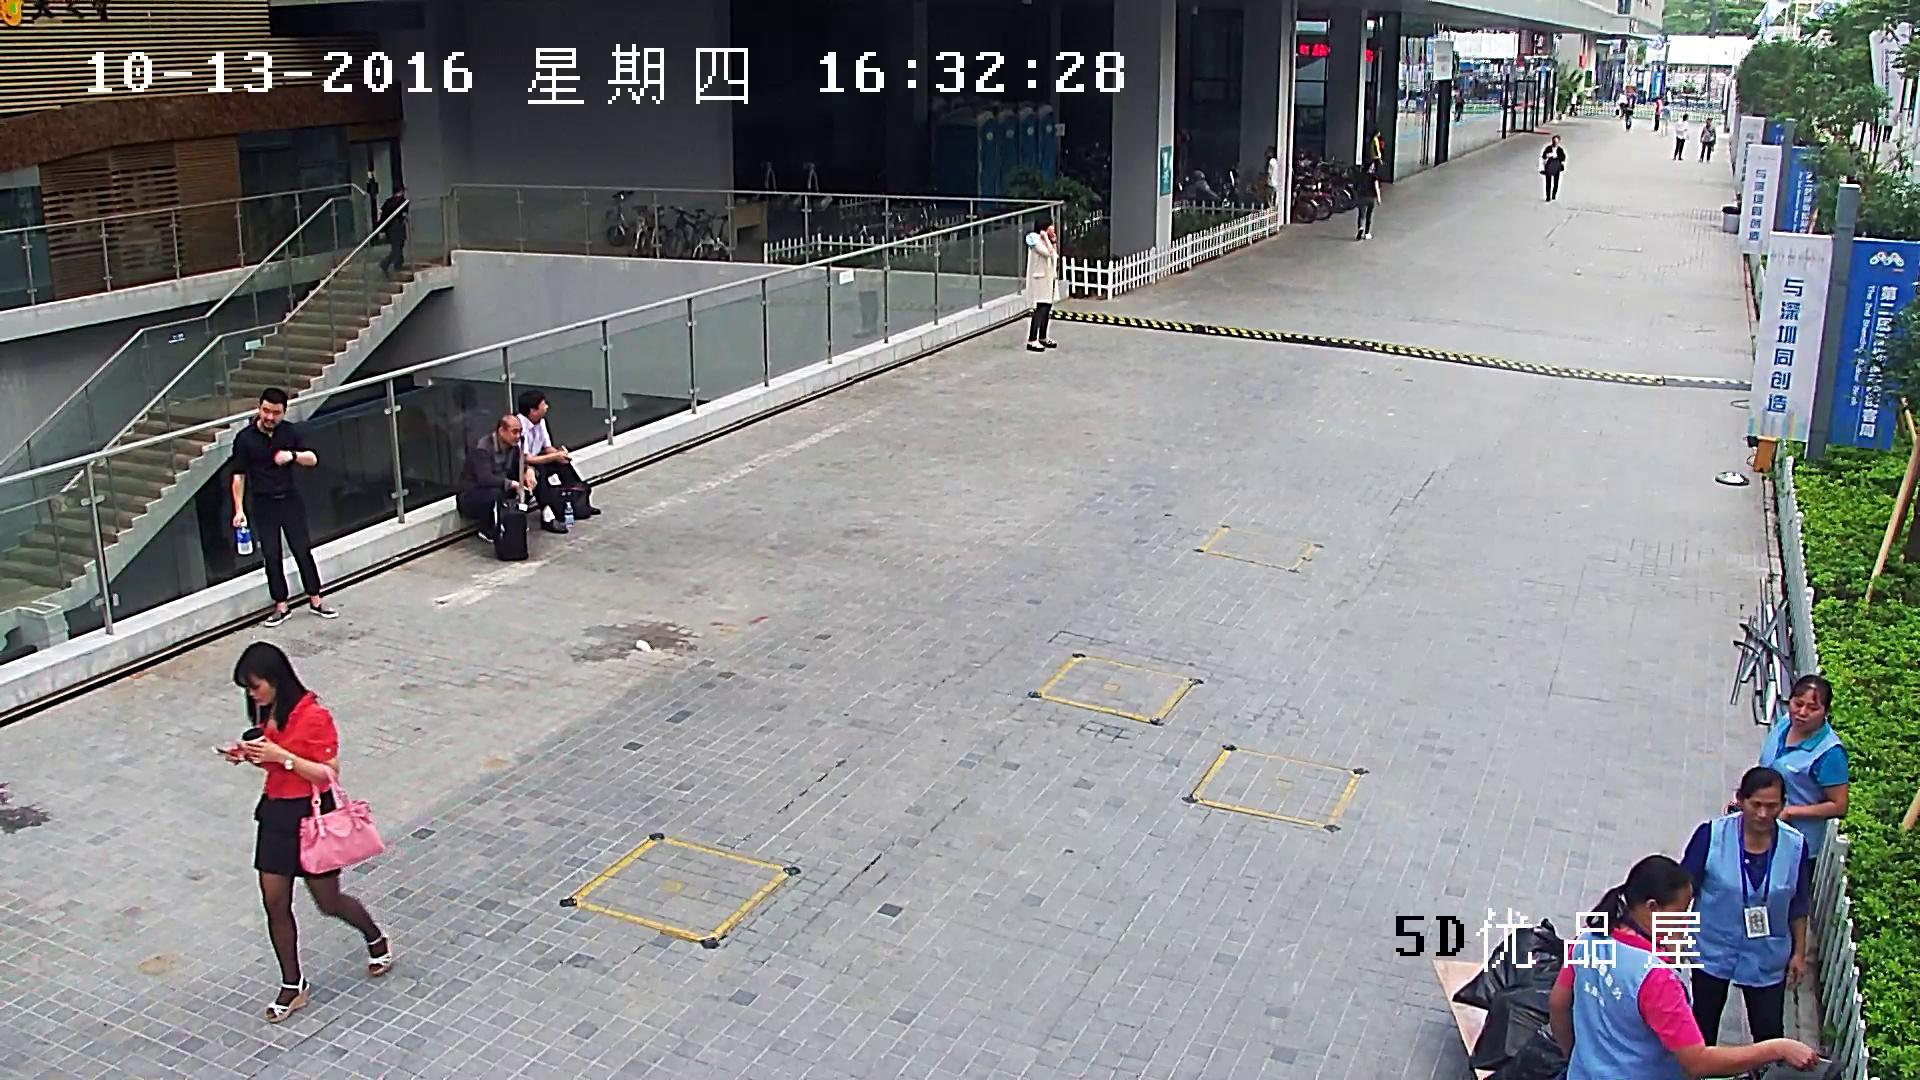person: (210, 642, 393, 1023), (1549, 855, 1818, 1080), (1679, 766, 1809, 1046), (232, 388, 339, 626), (1759, 674, 1848, 885), (516, 389, 600, 534), (457, 415, 538, 542), (1025, 215, 1060, 351), (378, 181, 407, 277), (1356, 159, 1381, 239), (1539, 134, 1565, 201), (1186, 169, 1220, 214), (1698, 118, 1715, 162), (1672, 113, 1688, 160), (1266, 146, 1277, 190), (1371, 127, 1381, 175), (1455, 89, 1464, 122), (1660, 101, 1669, 135), (1882, 115, 1892, 142), (1653, 97, 1661, 131), (1873, 116, 1883, 140), (1569, 88, 1578, 115)
